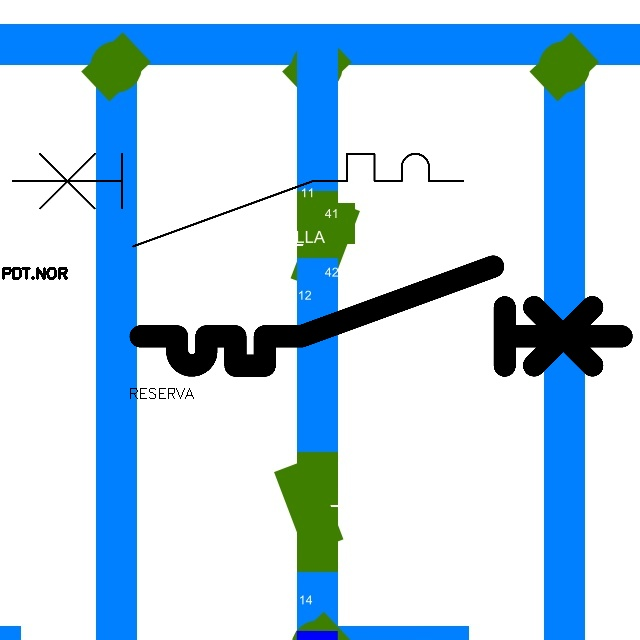interruptor_termomagnetico: (128, 254, 633, 378), (1, 142, 475, 258)
